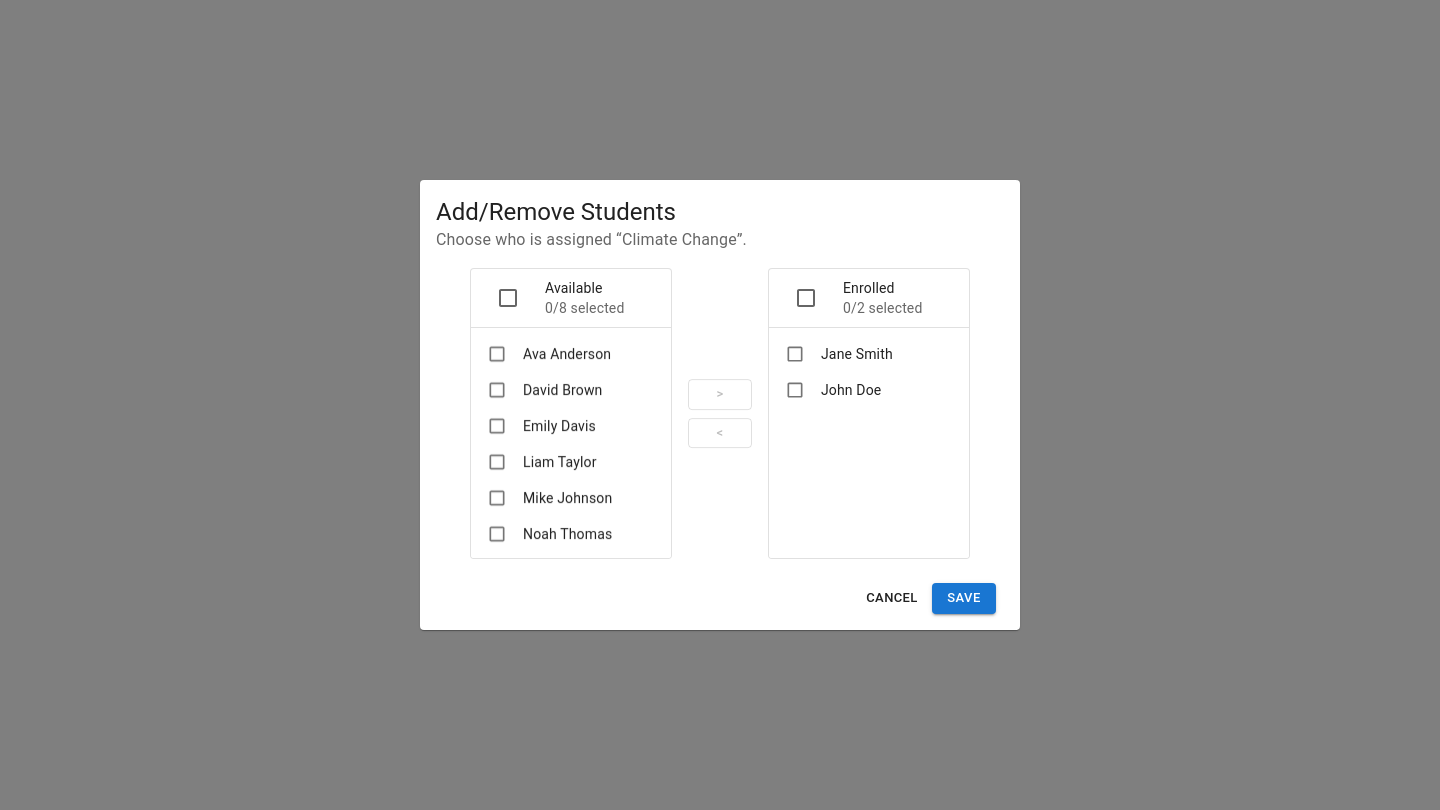
Test: AddStudentsModal — saving › shows the saved roster the next time it opens
The image size is (1440, 810).
Check: the checkbox labelled "Jane Smith" is shown, box top-left (785, 344), bottom-right (893, 364)
What coordinates should you click on to do the following:
click the checkbox labelled "John Doe"
I would click on:
 (833, 390)
Its box is top-left (785, 380), bottom-right (881, 400).
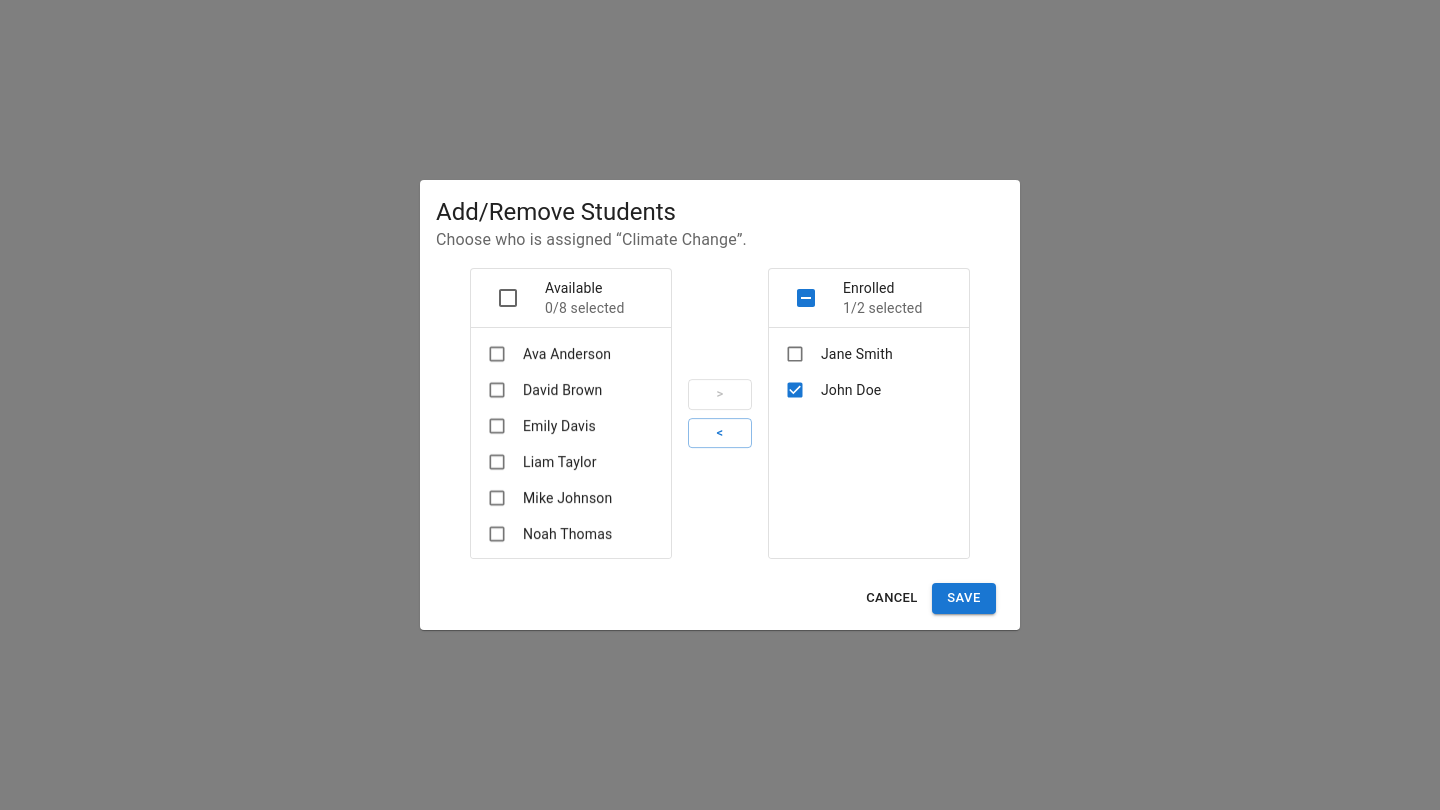
What coordinates should you click on to do the following:
click the button named "remove selected"
I would click on:
 (720, 433)
Its box is top-left (688, 418), bottom-right (752, 448).
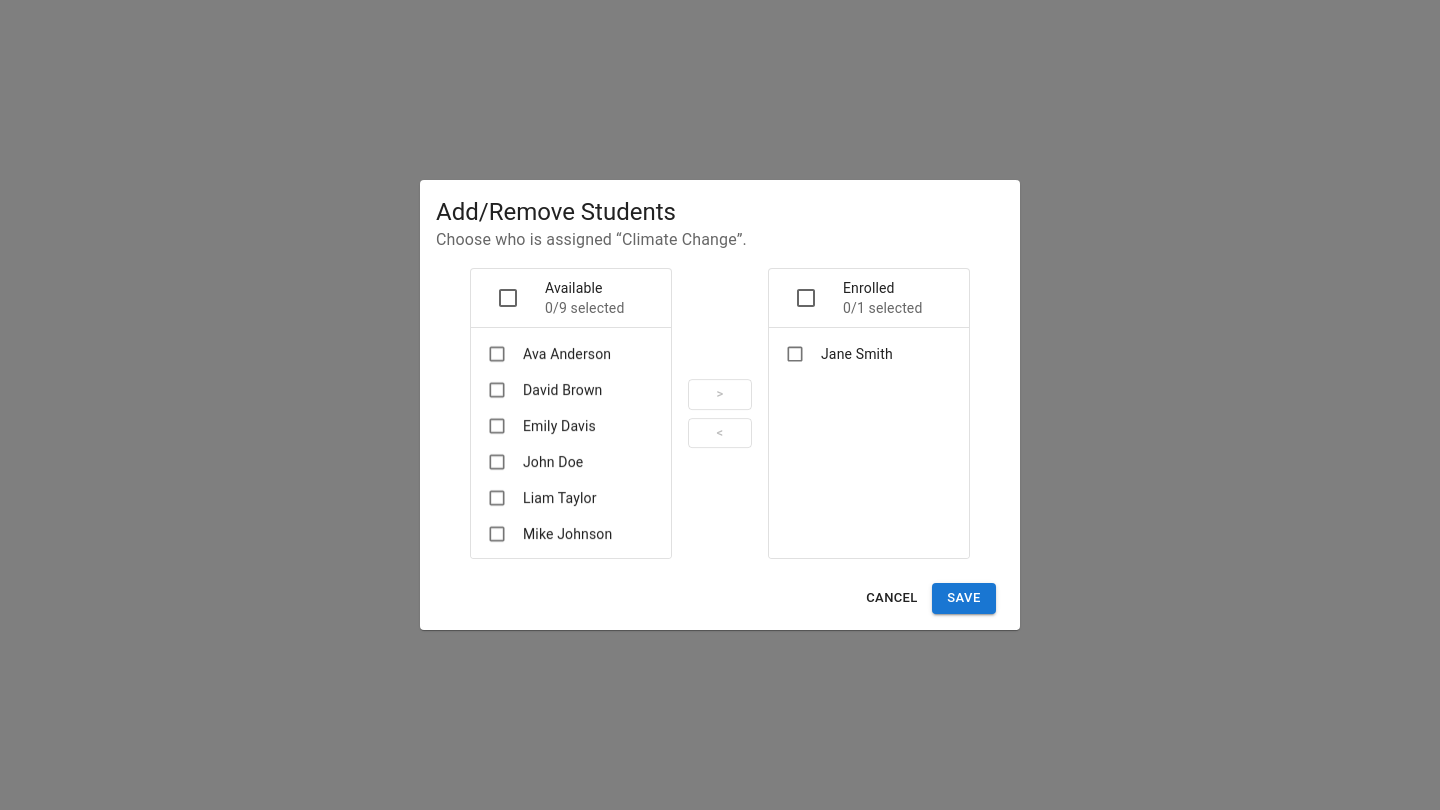
What coordinates should you click on to do the following:
click the button "Save"
I would click on:
 (964, 598)
Its box is top-left (932, 583), bottom-right (996, 614).
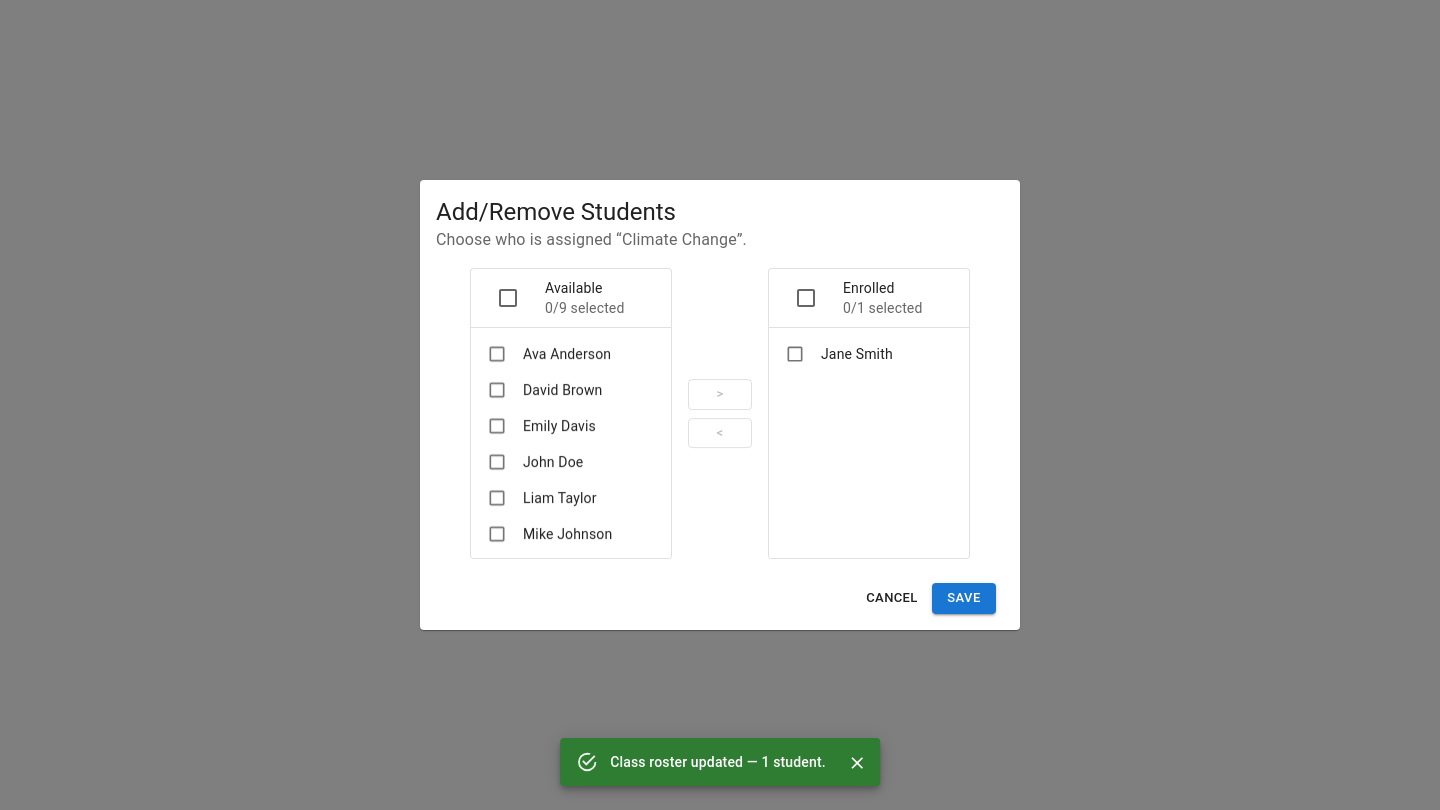
Check: the text "Class roster updated — 1 student." is shown, box top-left (610, 754), bottom-right (826, 770)
